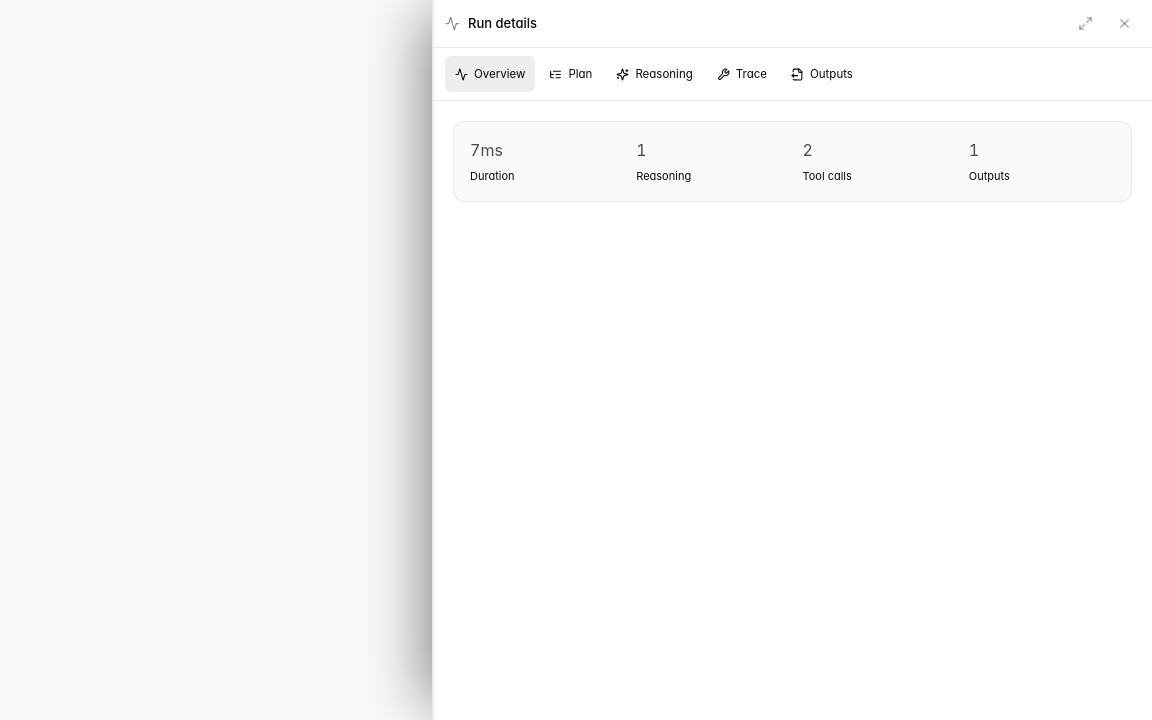
Scenario: RunInspector › renders a failed terminal trace without guessing unidentified task failures
Check: the element with test id "run-tab-overview" is shown, box [433,101,1151,222]
Click the tab "Trace" at [742, 74], box [707,56,777,92]
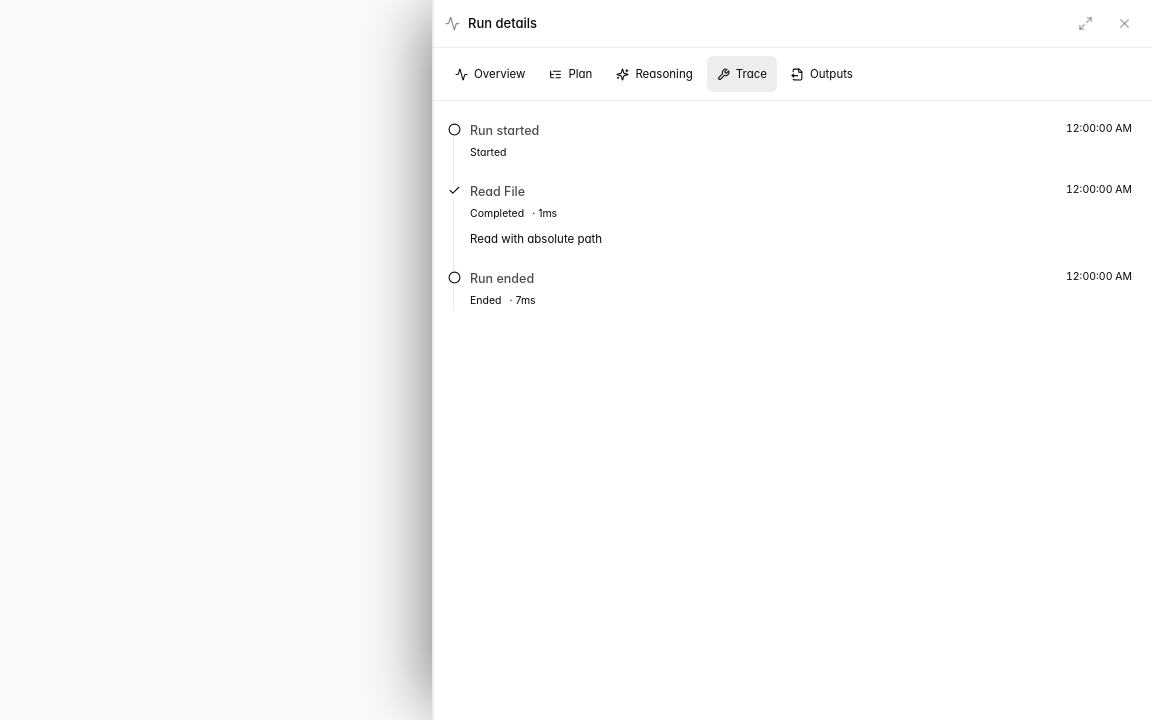
Check: the text "Run ended" does not show "Still affects the result", box [470,269,1132,309]
Check: the text "Run ended" is shown, box [470,294,502,307]
